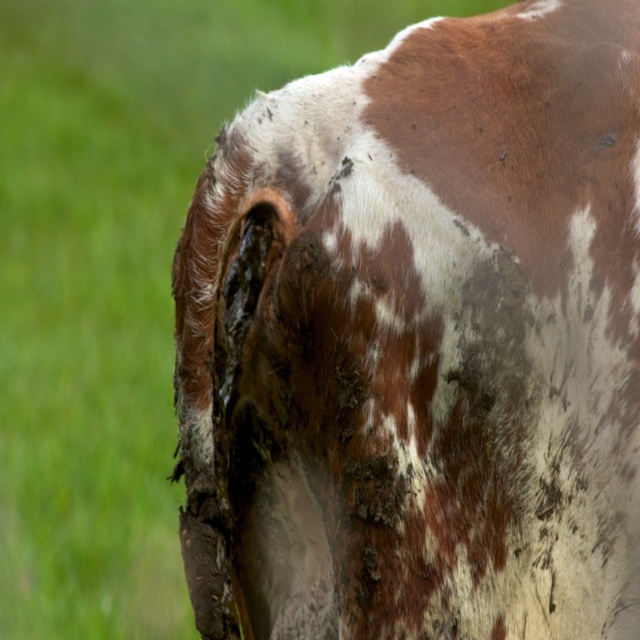Cattle: (174, 2, 590, 640)
